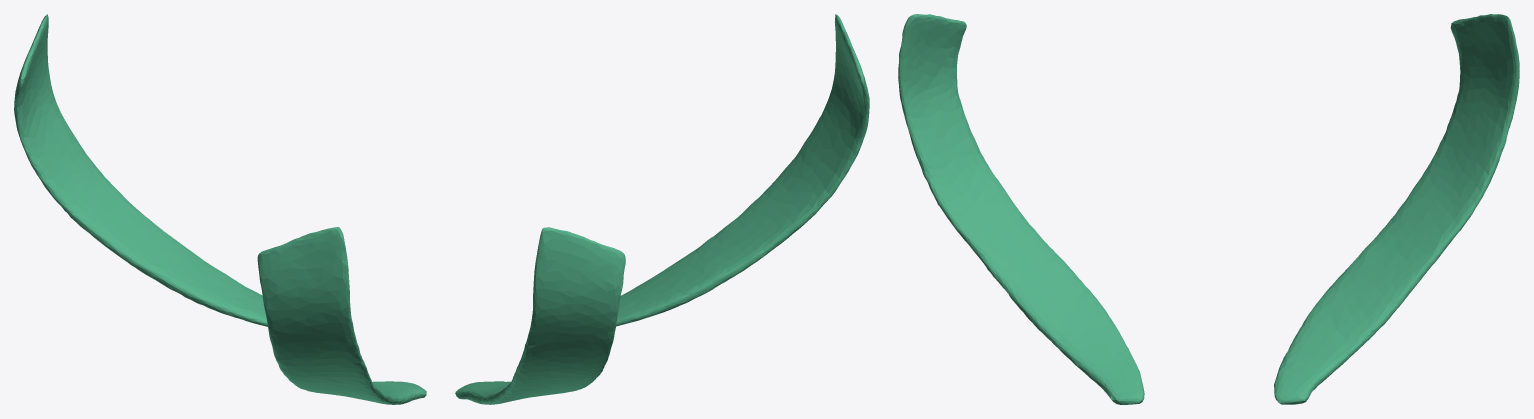
3 renders of one model, left to right at view 1: azimuth 30°, elevation 25°; view 2: azimuth 150°, elevation 25°; view 3: azimuth 270°, elevation 25°, orthographic. The views are drawn at different scales.
Parts seen in each view (by area): view 1: 320.obj; view 2: 320.obj; view 3: 320.obj.
Boxes of the visible parts, bbox=[...] form: 320.obj: bbox=[14, 14, 426, 404]; 320.obj: bbox=[455, 14, 869, 404]; 320.obj: bbox=[898, 14, 1519, 404].
Size of the model in its own units: 3341 by 3776 by 7171.
